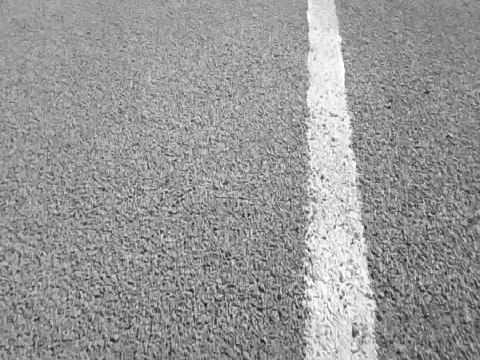Lines: (307, 0, 380, 360)
